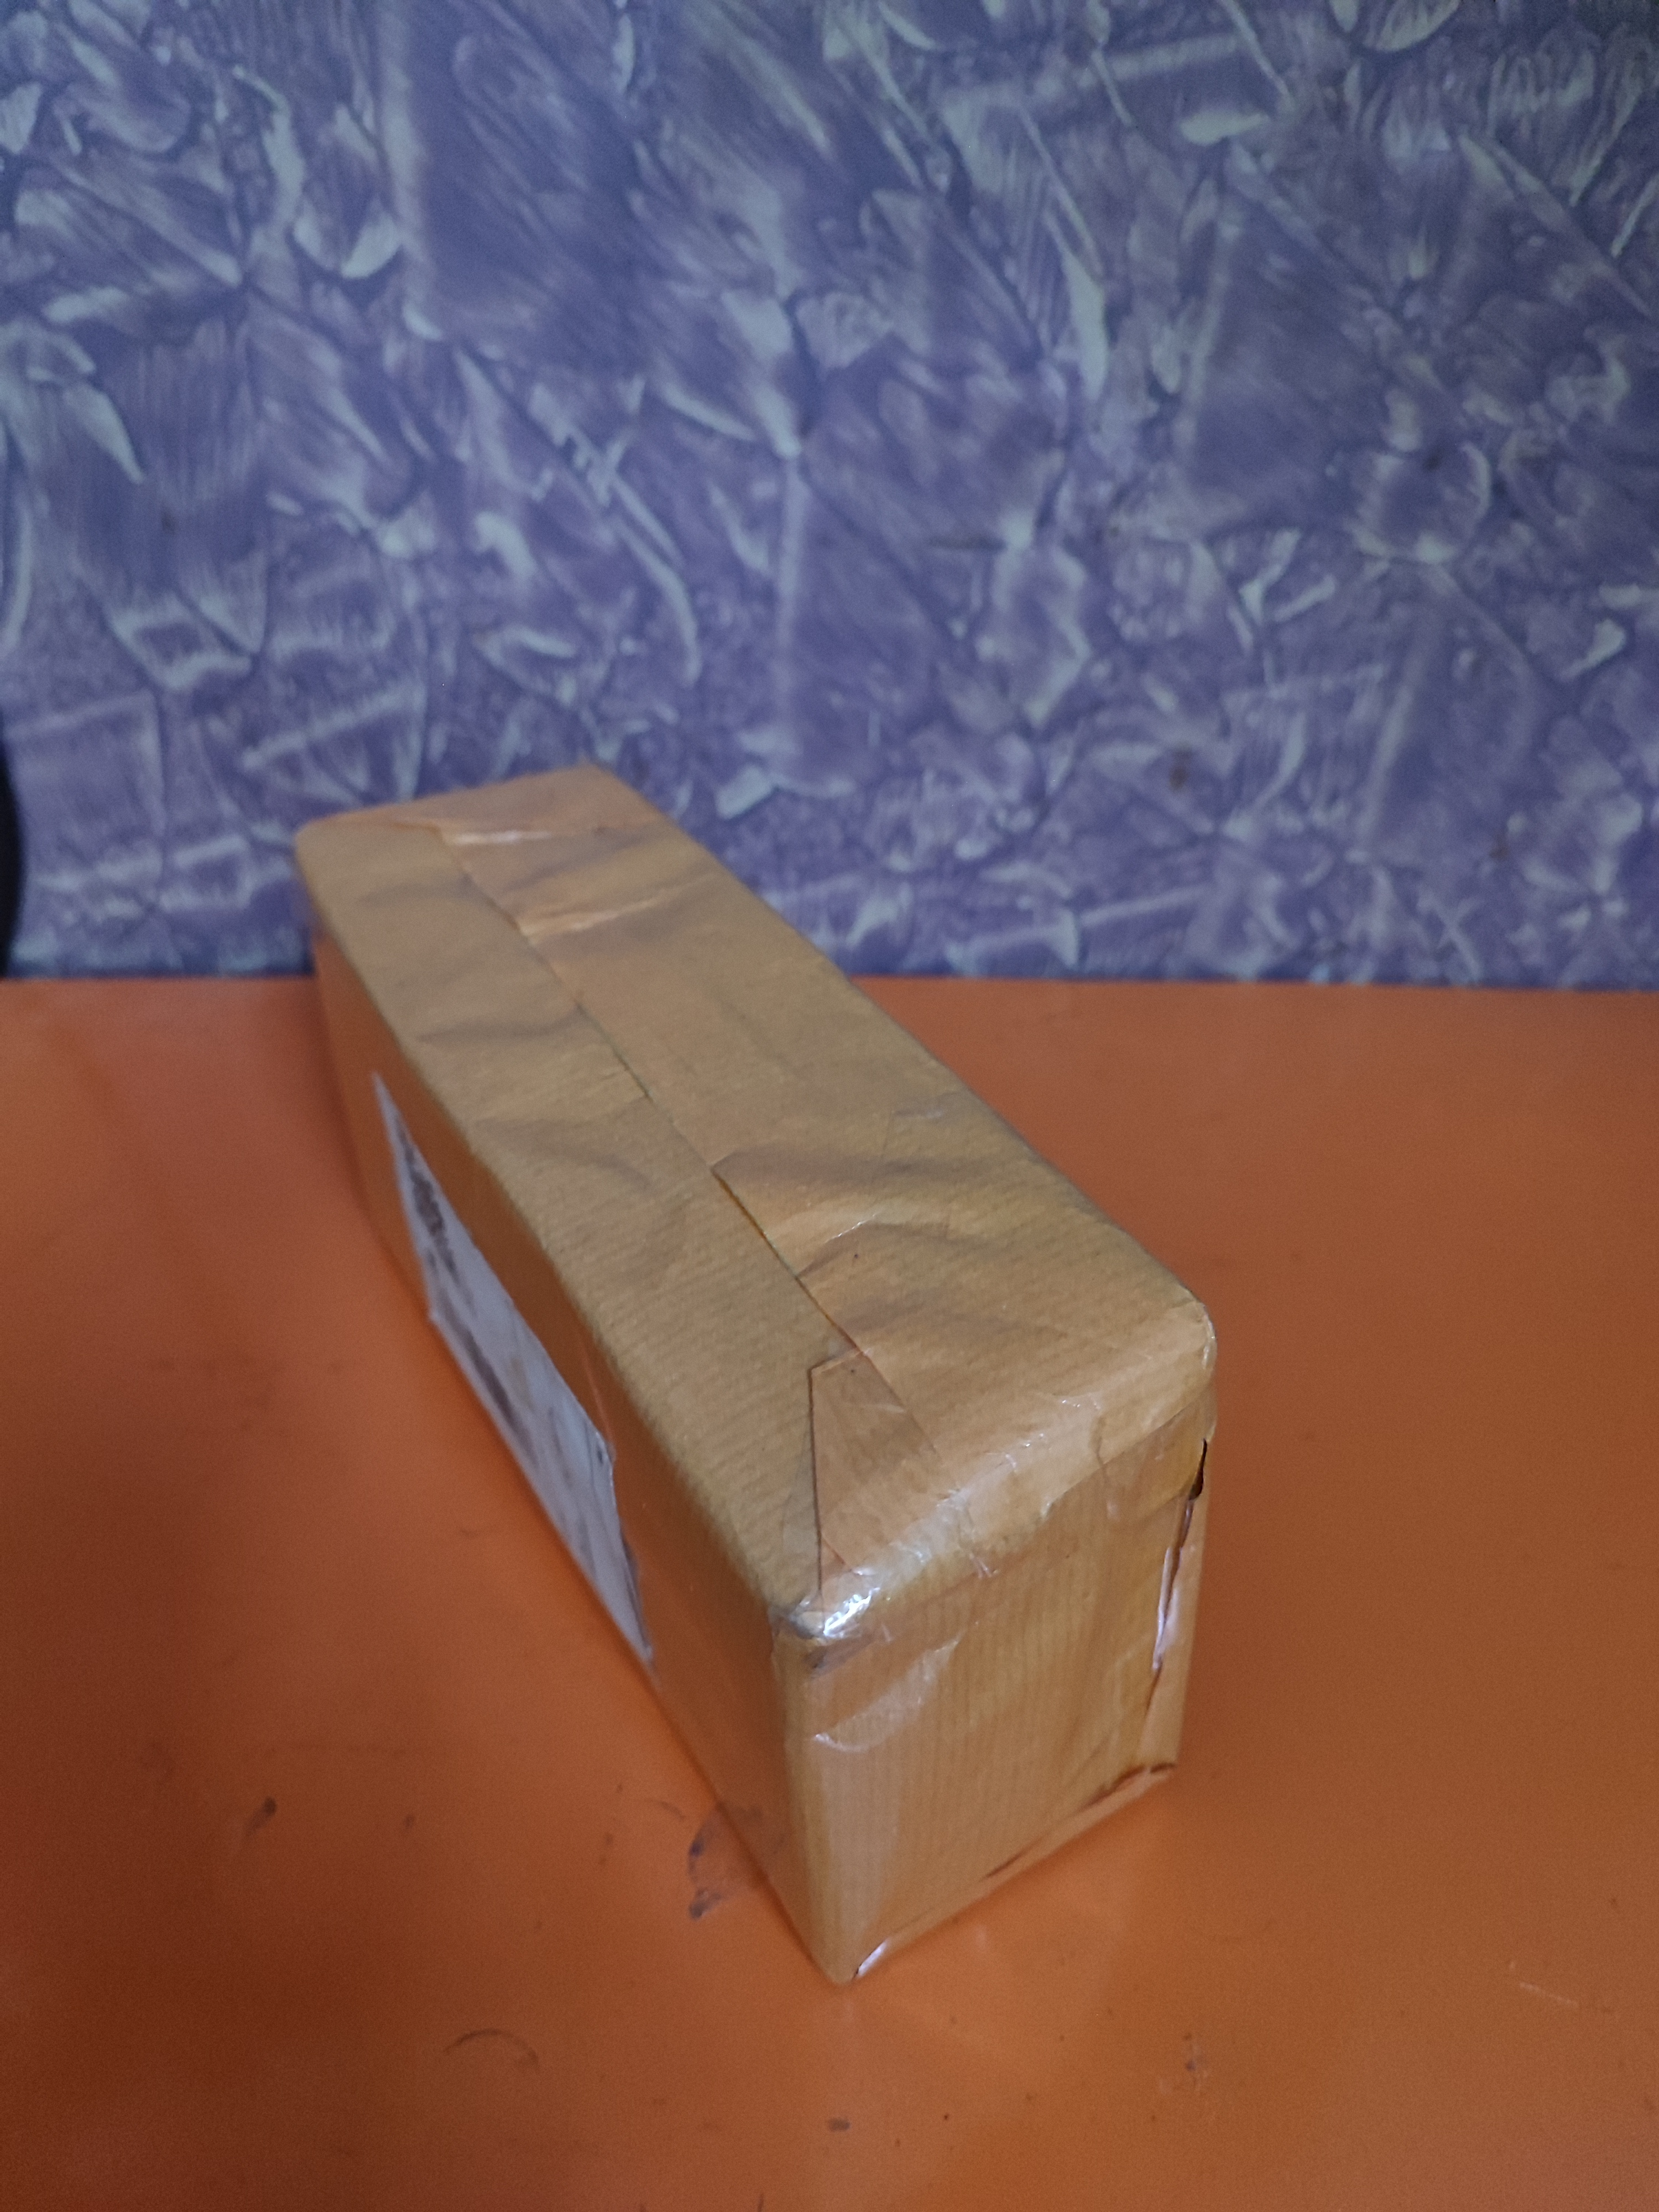Box: (132, 686, 1209, 1994)
